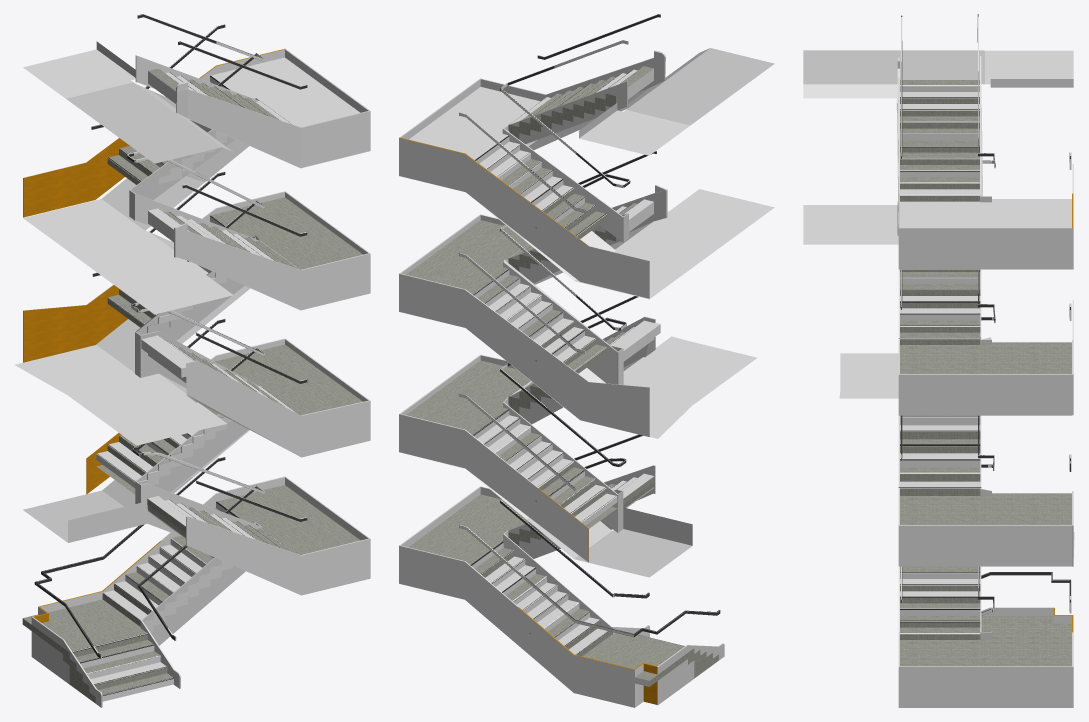
The model's file is all_stair_2_sized.glb.
3 renders of one model, left to right at view 1: azimuth 30°, elevation 25°; view 2: azimuth 150°, elevation 25°; view 3: azimuth 270°, elevation 25°, orthographic. The views are drawn at different scales.
Parts seen in each view (by area): view 1: SIMP_COL, NOCOL_Cube_009, NOCOL_Cube_004; view 2: SIMP_COL, NOCOL_Cube_004, NOCOL_Cube_009; view 3: SIMP_COL, NOCOL_Cube_004, NOCOL_Cube_009.
Part boxes in pixels (<box>): SIMP_COL: <box>15,14,370,701</box>; NOCOL_Cube_009: <box>23,14,369,707</box>; NOCOL_Cube_004: <box>22,68,362,702</box>; SIMP_COL: <box>399,14,774,707</box>; NOCOL_Cube_004: <box>406,66,718,686</box>; NOCOL_Cube_009: <box>399,14,774,704</box>; SIMP_COL: <box>803,14,1074,707</box>; NOCOL_Cube_004: <box>898,80,1071,666</box>; NOCOL_Cube_009: <box>803,14,1073,640</box>.
Bounding box in the file's own units: 6.99 × 16.05 × 5.91.
7 materials, 2 textured.
